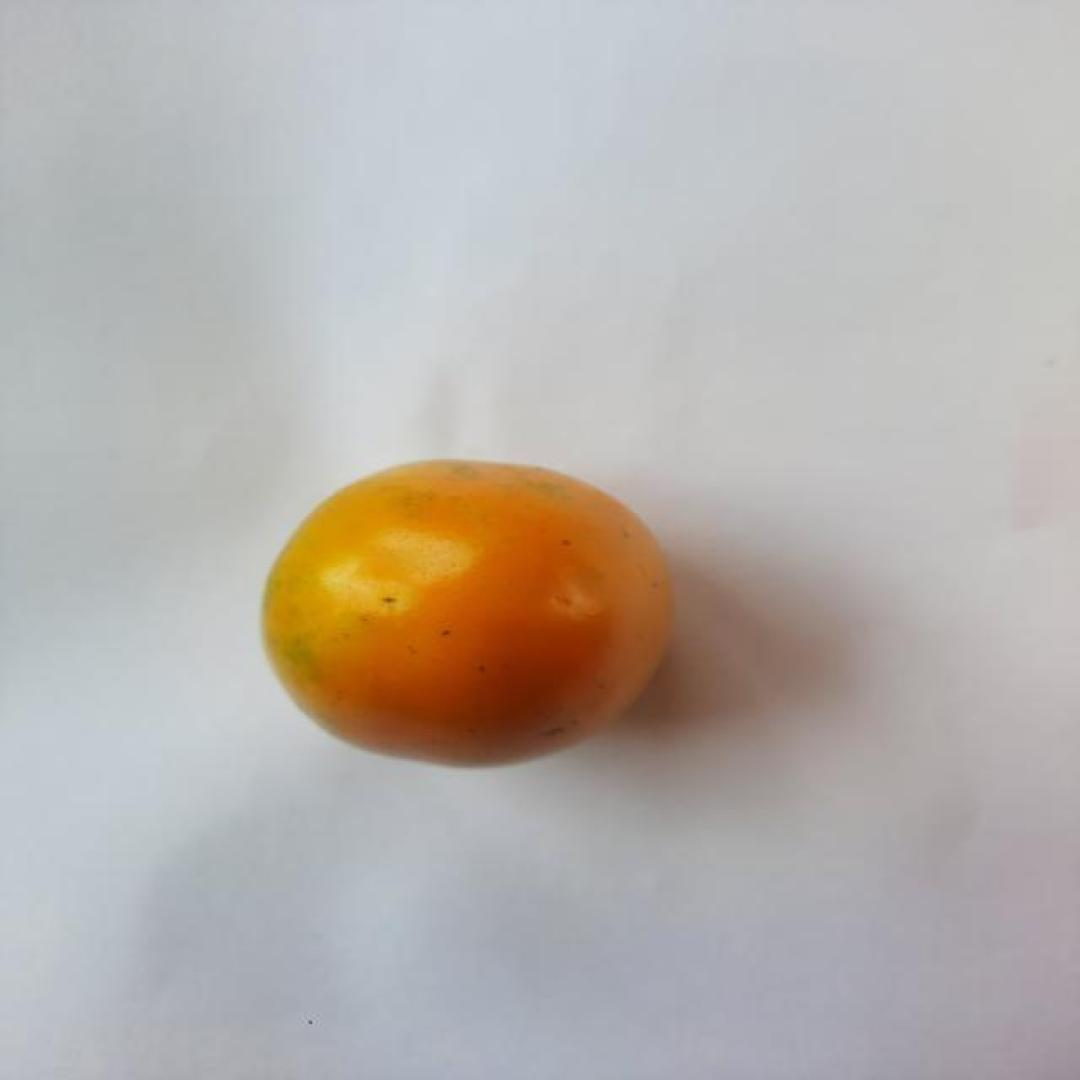setengah_matang: (252, 454, 676, 771)
